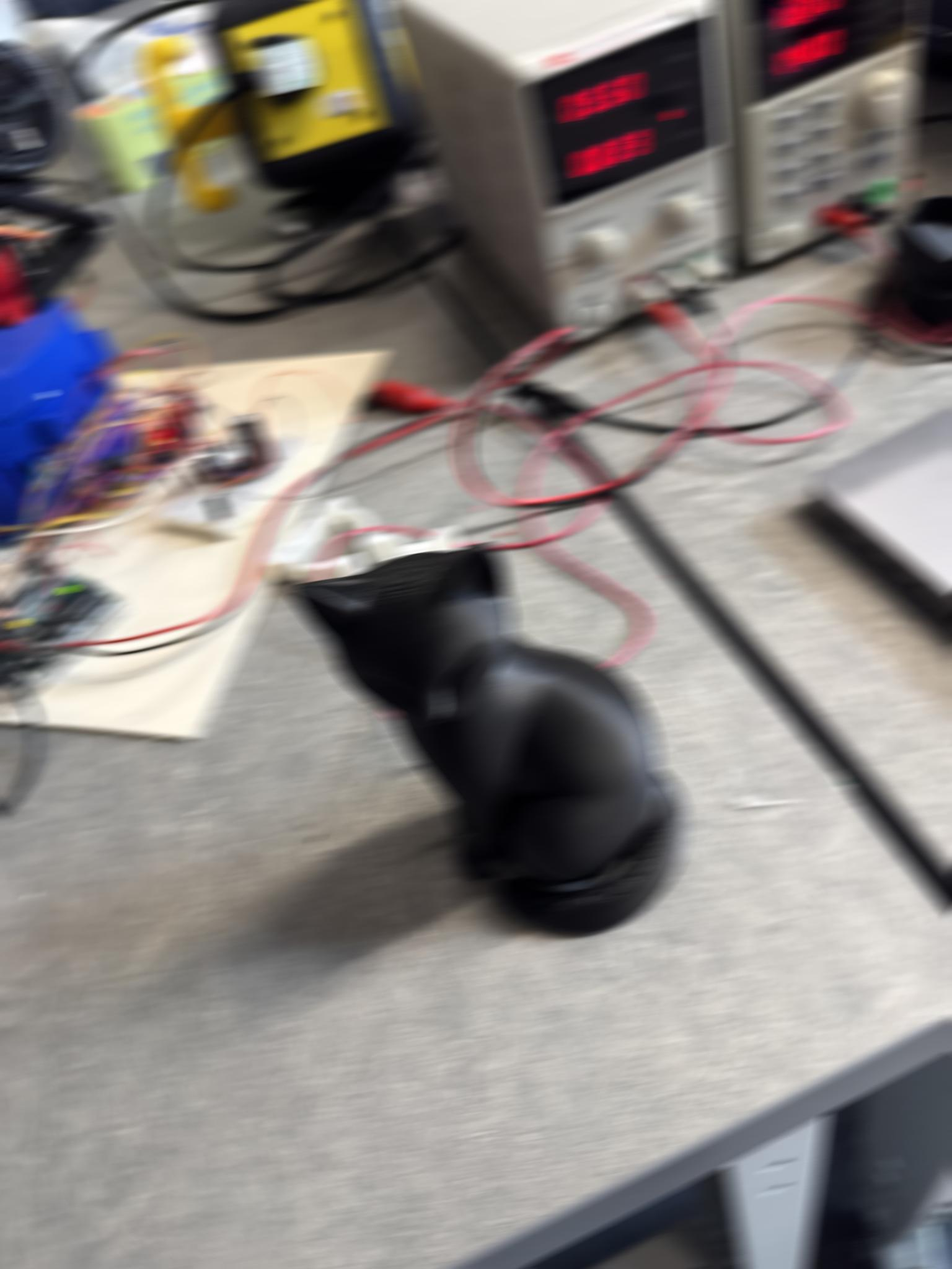cat: (290, 544, 687, 937)
